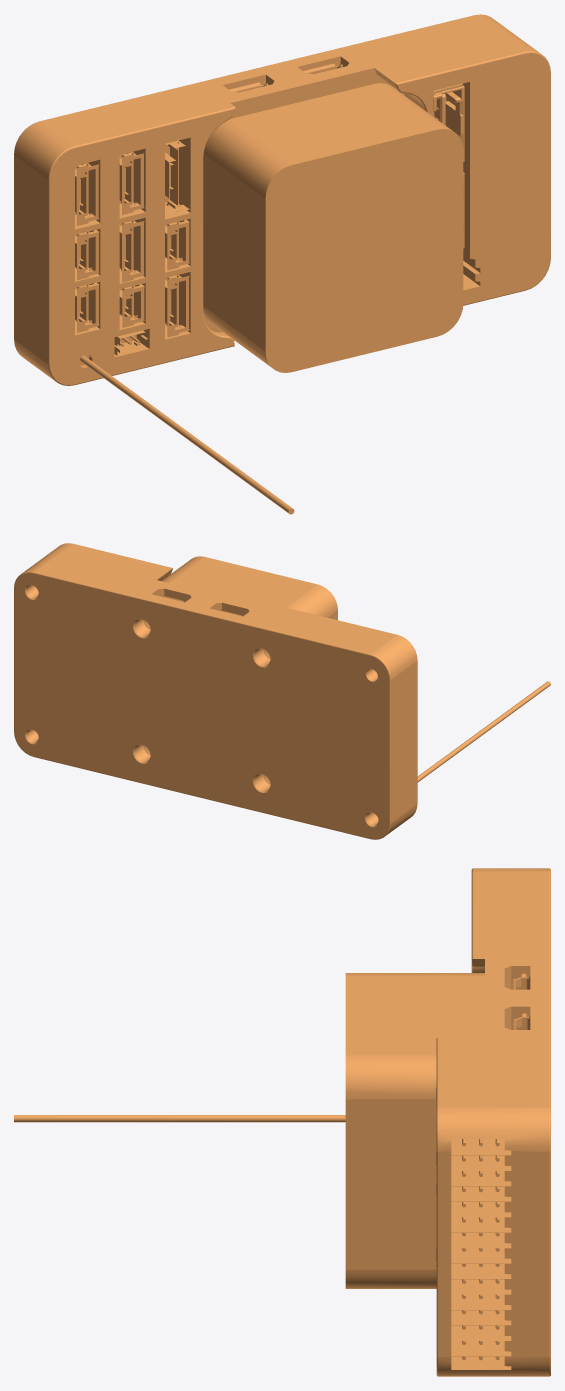
The picture shows the model from 3 angles, top to bottom: view 1: azimuth 30°, elevation 25°; view 2: azimuth 150°, elevation 25°; view 3: azimuth 270°, elevation 25°; orthographic projection. The views are drawn at different scales.
Parts seen in each view (by area): view 1: .cube-orange.obj; view 2: .cube-orange.obj; view 3: .cube-orange.obj.
Boxes of the visible parts, x1,y1,x2,y2 form: .cube-orange.obj: [14, 14, 550, 514]; .cube-orange.obj: [14, 543, 550, 839]; .cube-orange.obj: [14, 868, 550, 1376].
Size of the model in its own units: 94.25 by 44.2 by 80.94.
